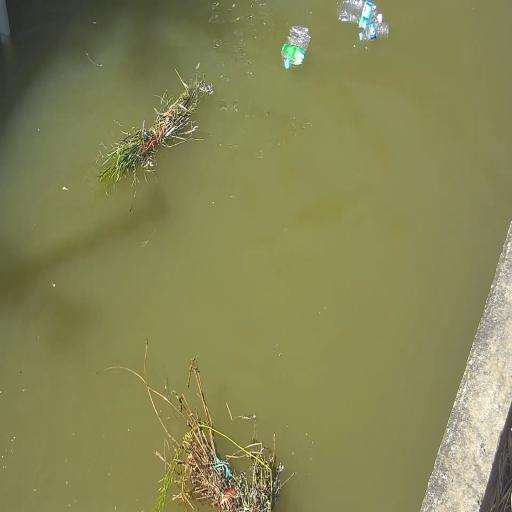plastic: (338, 0, 382, 28), (282, 26, 310, 69), (359, 23, 389, 41)
twig: (106, 340, 283, 512), (99, 74, 212, 184)
